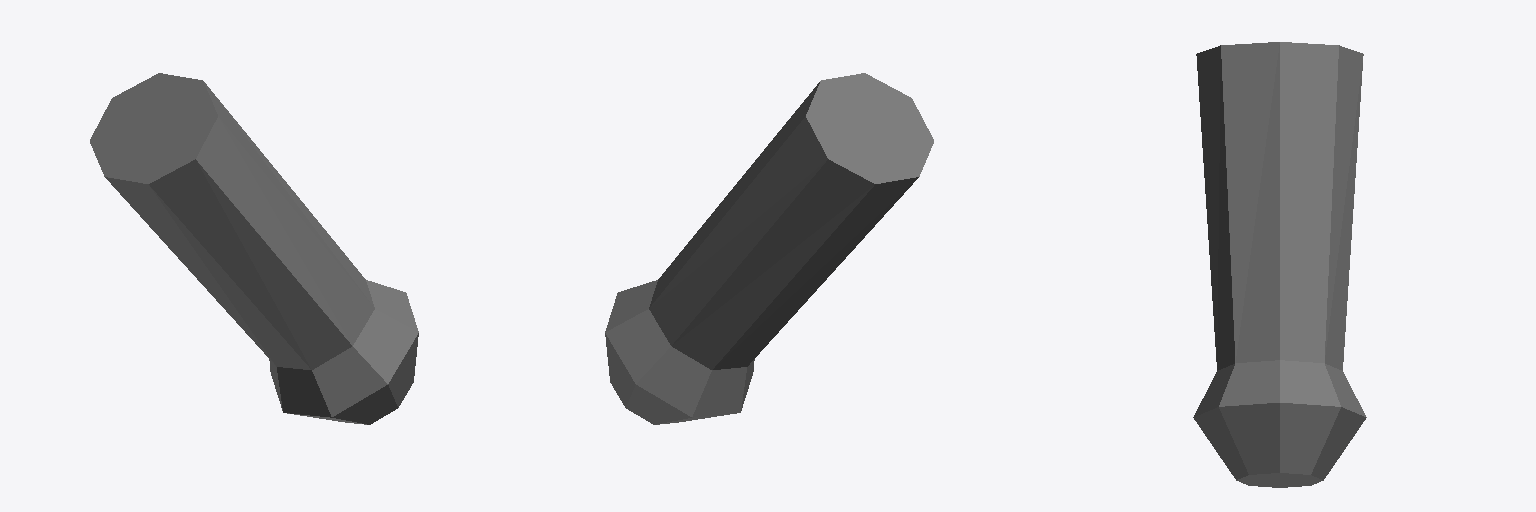
Rendered from Player_RightHand.obj.
The picture shows the model from 3 angles: view 1: azimuth 30°, elevation 25°; view 2: azimuth 150°, elevation 25°; view 3: azimuth 270°, elevation 25°; orthographic projection.
Parts seen in each view (by area): view 1: RightHand; view 2: RightHand; view 3: RightHand.
Part boxes in pixels (x1,y1,x2,y2): RightHand: (90, 73, 418, 424); RightHand: (605, 73, 933, 424); RightHand: (1193, 42, 1366, 487).
Bounding box in the file's own units: 18.27 × 21.71 × 9.06.